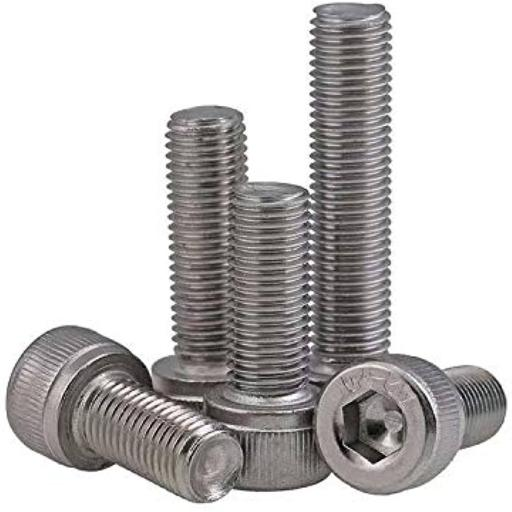Hex-Allen: (316, 352, 462, 496)
